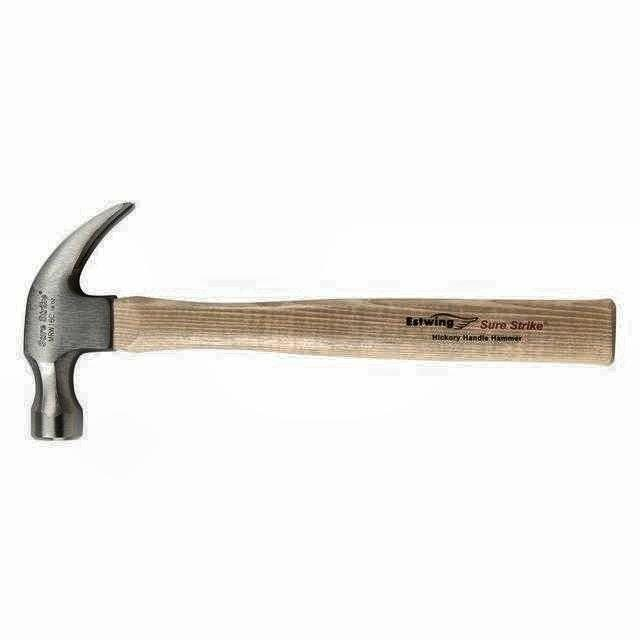hammer: (25, 199, 617, 443)
